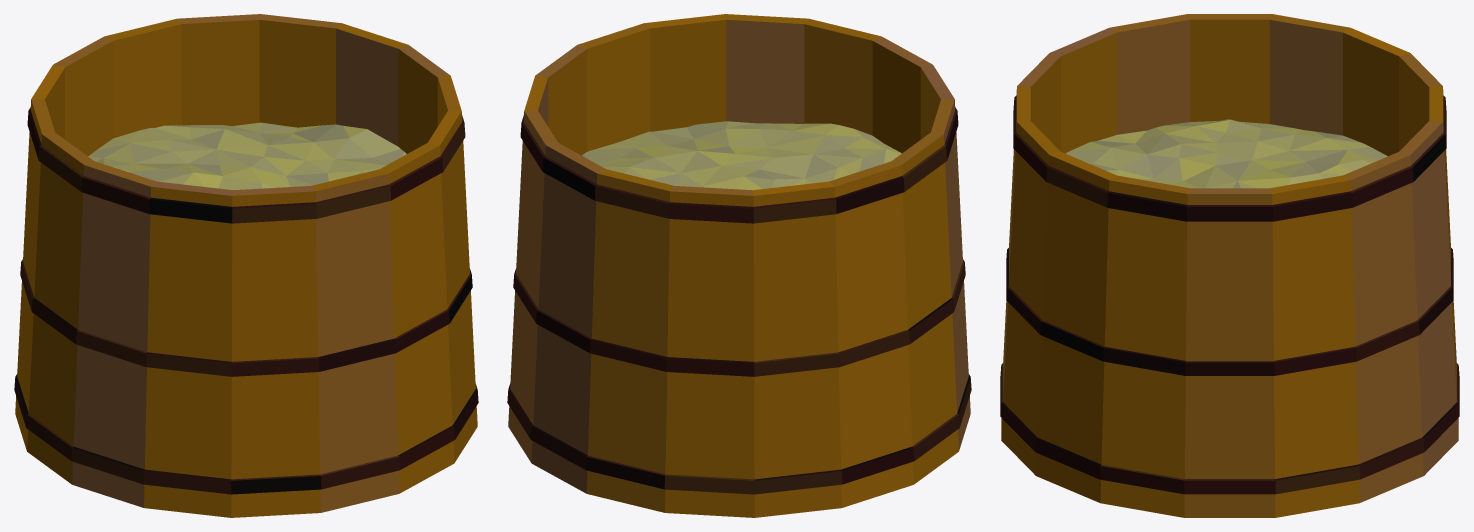
The model's file is TubFullMead.glb.
The picture shows the model from 3 angles, left to right: view 1: azimuth 30°, elevation 25°; view 2: azimuth 150°, elevation 25°; view 3: azimuth 270°, elevation 25°; orthographic projection.
Visible parts, largest first — view 1: TubFullMead; view 2: TubFullMead; view 3: TubFullMead.
Boxes of the visible parts, left/top/right/bottom form: TubFullMead: left=14, top=14, right=478, bottom=517; TubFullMead: left=507, top=14, right=971, bottom=517; TubFullMead: left=1000, top=14, right=1459, bottom=517.
Bounding box in the file's own units: 1.97 × 1.5 × 1.97.
